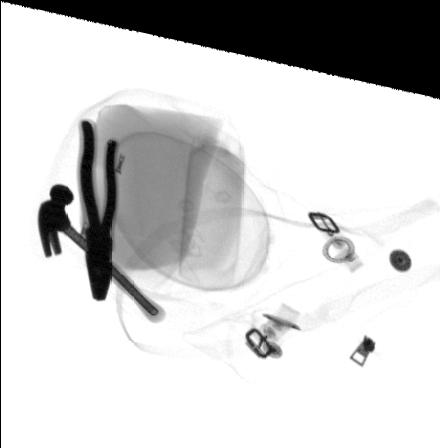Hammer: (35, 180, 166, 315)
Pliers: (75, 111, 119, 297)
